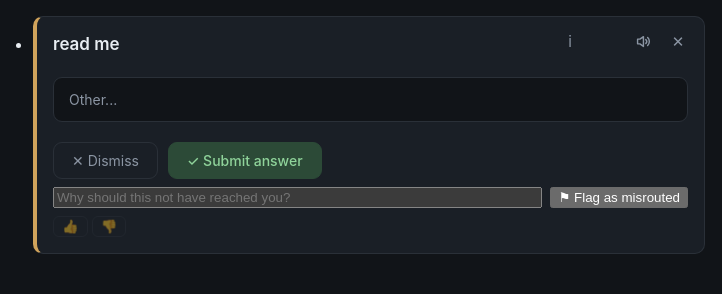
Card read-aloud stop › keeps speaking and shows a failure when the stop is refused
Click the button named "Read aloud".
click(642, 41)  # box [628, 27, 656, 55]
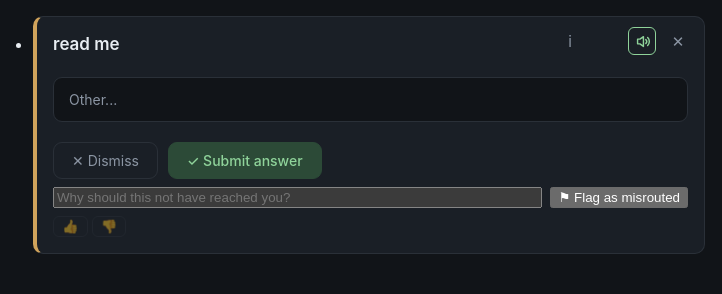
Check: the button named "Stop reading" is pressed
Click the button named "Stop reading".
click(642, 41)  # box [628, 27, 656, 55]
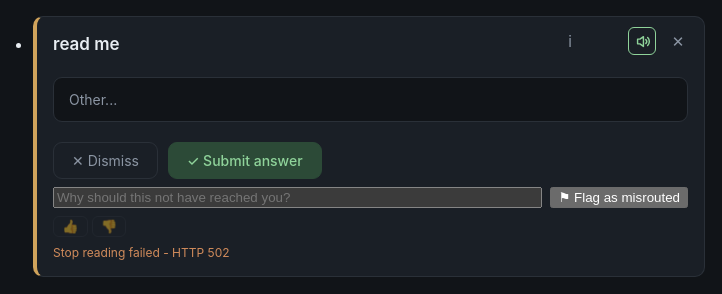
Check: the text with class "failed" reads "Stop reading failed - HTTP 502", box [53, 245, 230, 260]
